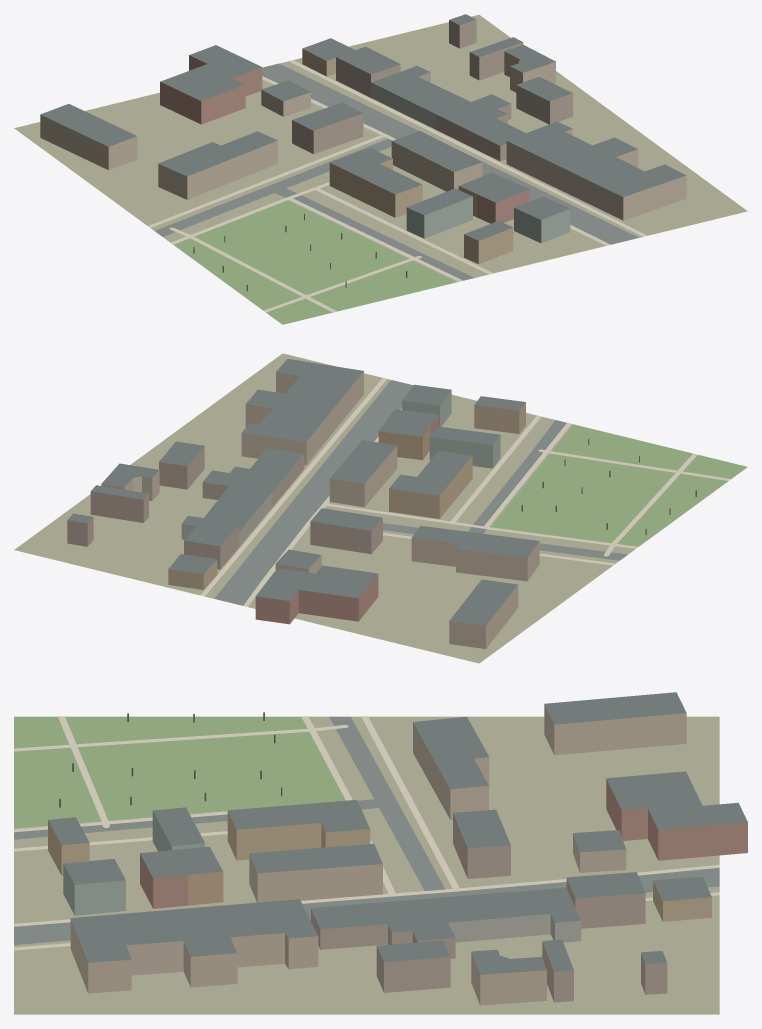
File: sector-0_-7.glb
3 renders of one model, top to bottom at view 1: azimuth 30°, elevation 25°; view 2: azimuth 150°, elevation 25°; view 3: azimuth 270°, elevation 25°, orthographic. The views are drawn at different scales.
Visible parts, largest first — view 1: 0:-7-ground, 0:-7-facade, 0:-7-roof, 0:-7-park, 0:-7-road, 0:-7-paving; view 2: 0:-7-ground, 0:-7-facade, 0:-7-roof, 0:-7-park, 0:-7-road, 0:-7-paving; view 3: 0:-7-ground, 0:-7-facade, 0:-7-roof, 0:-7-park, 0:-7-road, 0:-7-paving.
Boxes of the visible parts, x1=… form: 0:-7-ground: x1=14, y1=14, x2=747, y2=282; 0:-7-facade: x1=40, y1=19, x2=686, y2=264; 0:-7-roof: x1=40, y1=14, x2=685, y2=240; 0:-7-park: x1=173, y1=200, x2=456, y2=324; 0:-7-road: x1=155, y1=63, x2=638, y2=280; 0:-7-paving: x1=148, y1=60, x2=647, y2=312; 0:-7-ground: x1=14, y1=353, x2=635, y2=663; 0:-7-facade: x1=67, y1=371, x2=539, y2=648; 0:-7-roof: x1=67, y1=359, x2=539, y2=625; 0:-7-park: x1=491, y1=424, x2=747, y2=546; 0:-7-road: x1=214, y1=380, x2=627, y2=605; 0:-7-paving: x1=200, y1=378, x2=730, y2=606; 0:-7-ground: x1=14, y1=716, x2=719, y2=1014; 0:-7-facade: x1=48, y1=704, x2=747, y2=1005; 0:-7-roof: x1=48, y1=692, x2=747, y2=974; 0:-7-park: x1=14, y1=716, x2=345, y2=827; 0:-7-road: x1=14, y1=716, x2=719, y2=944; 0:-7-paving: x1=14, y1=716, x2=719, y2=950.
Size of the model in its own units: 200 by 9.6 by 208.
